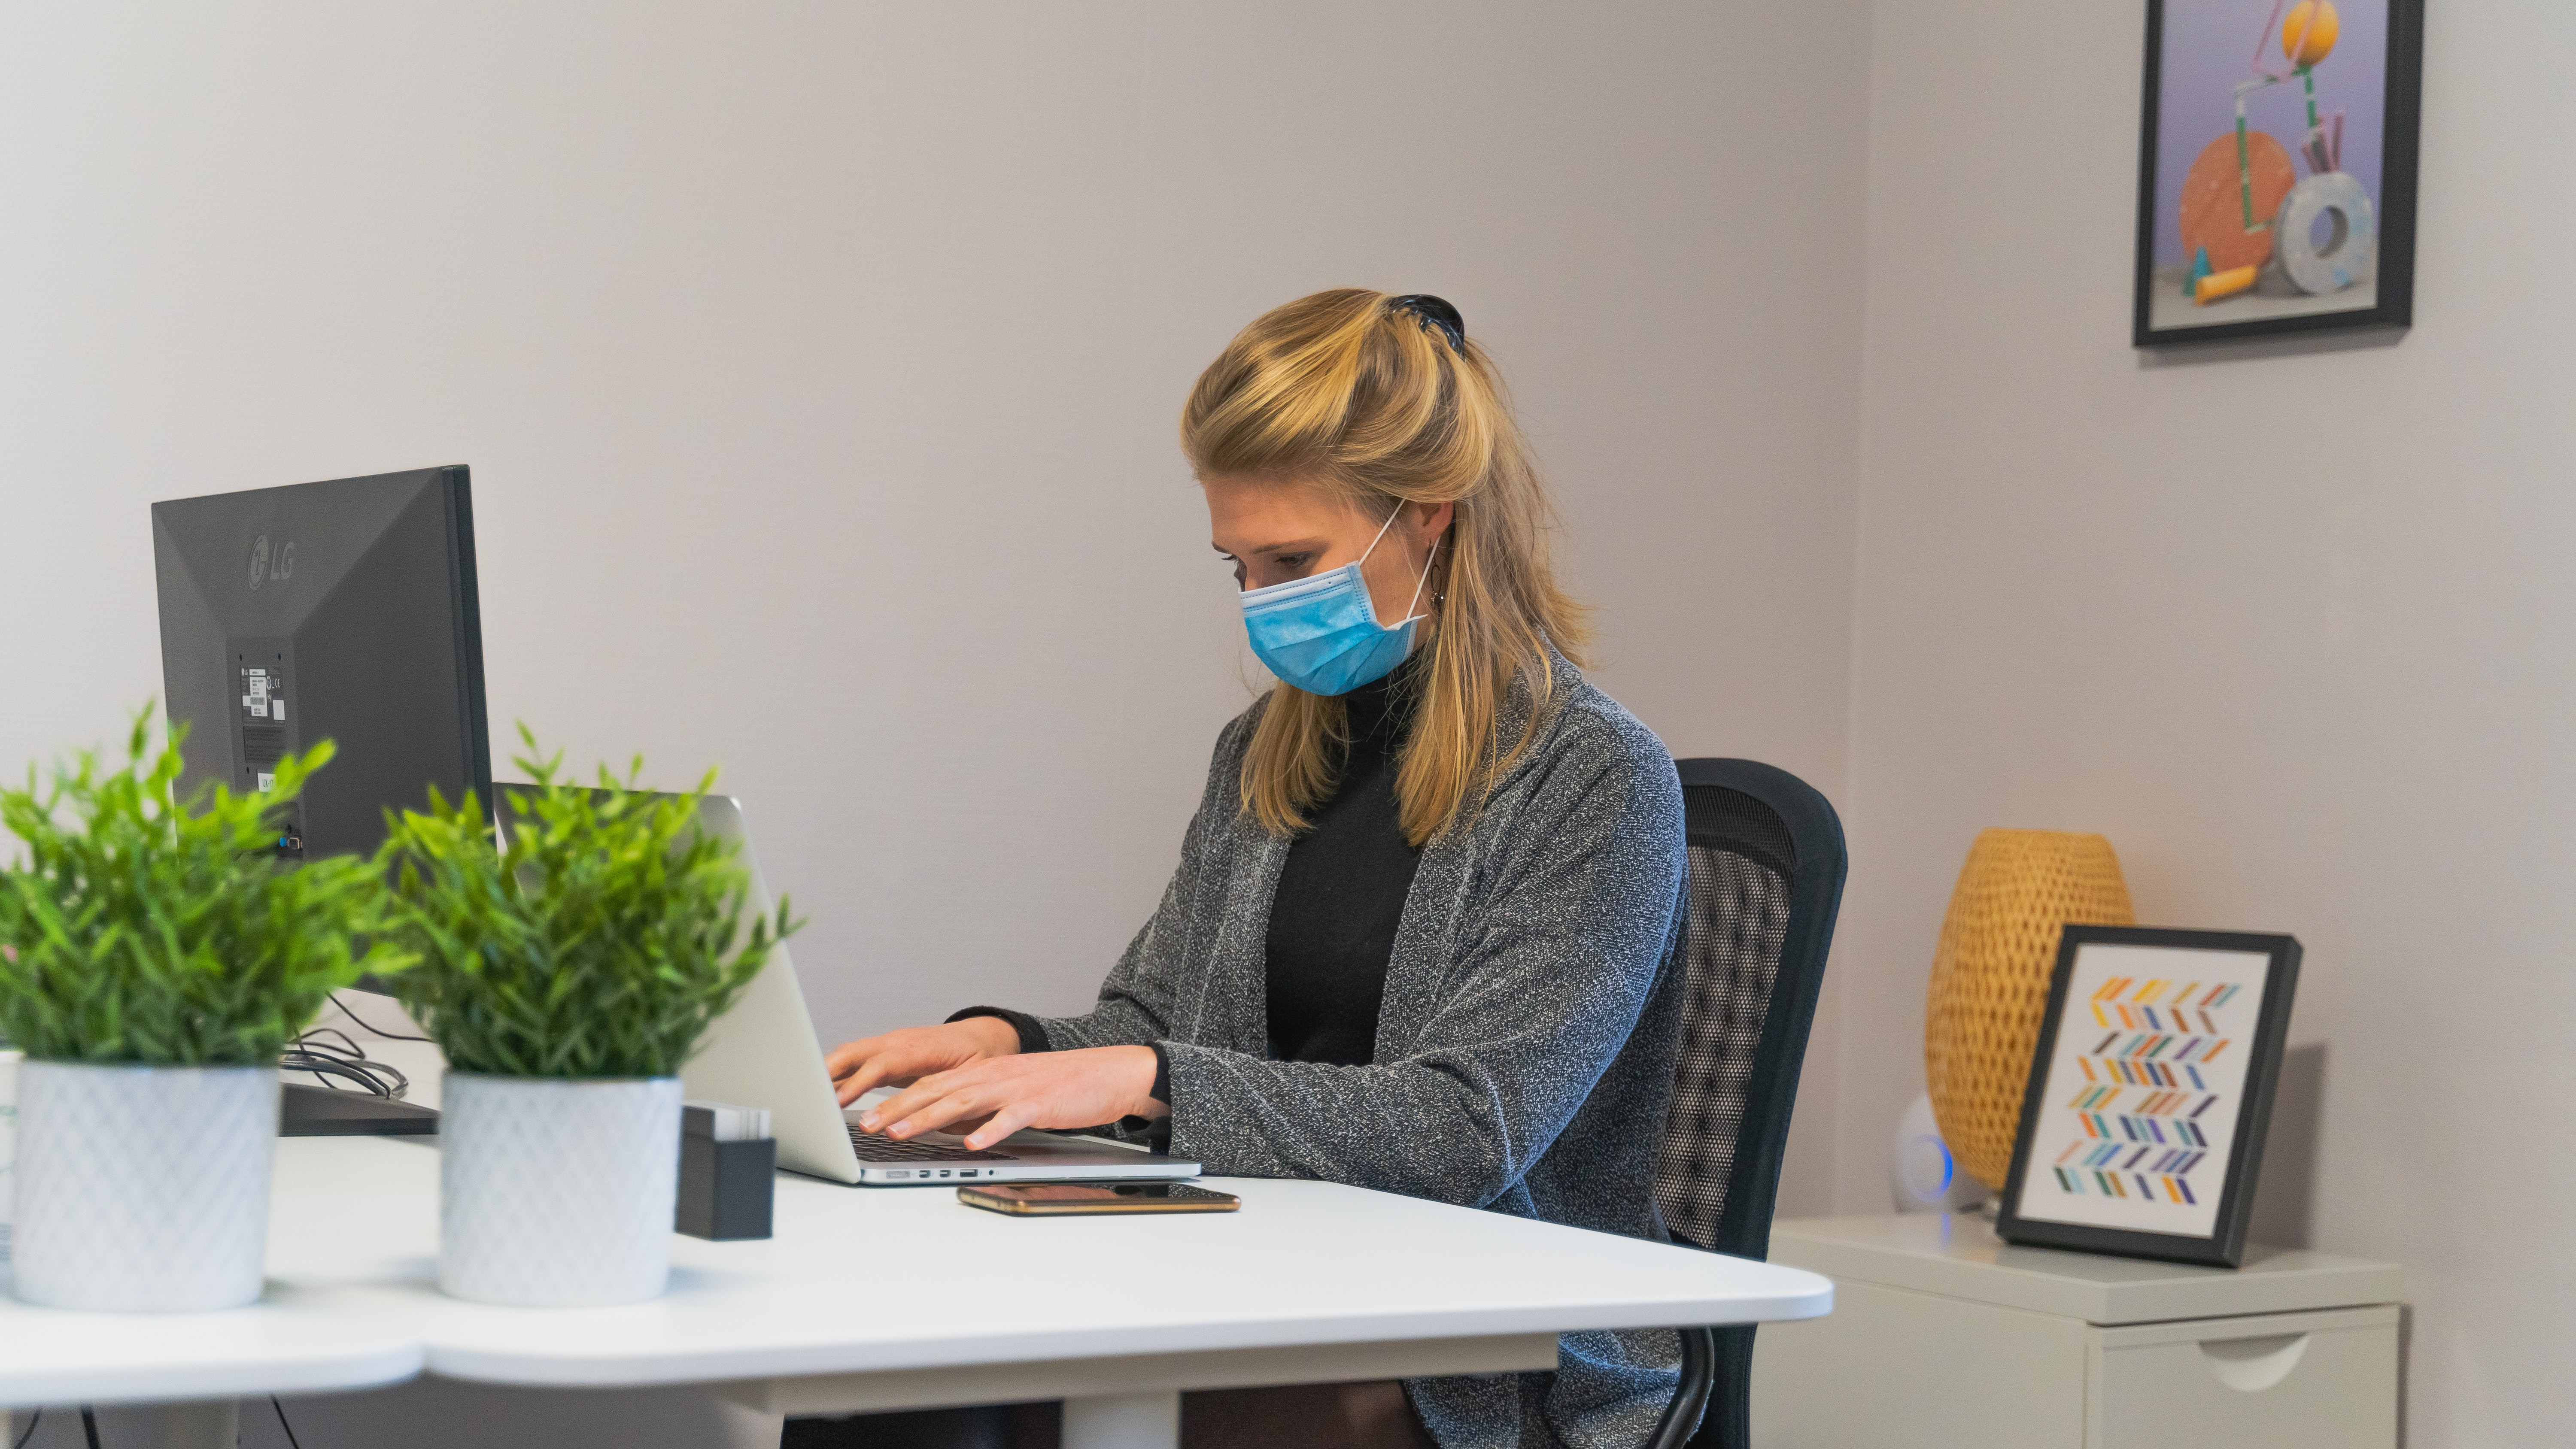mask: (1228, 564, 1461, 714)
person: (1010, 277, 1684, 1264)
